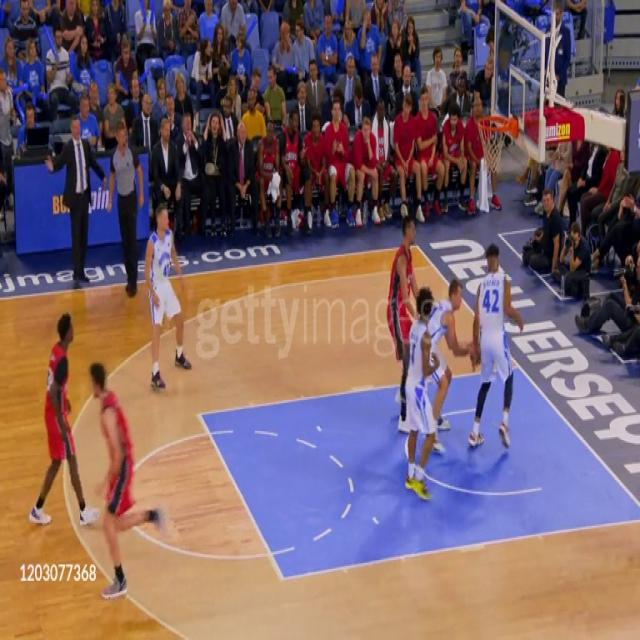ball: (462, 341, 482, 373)
